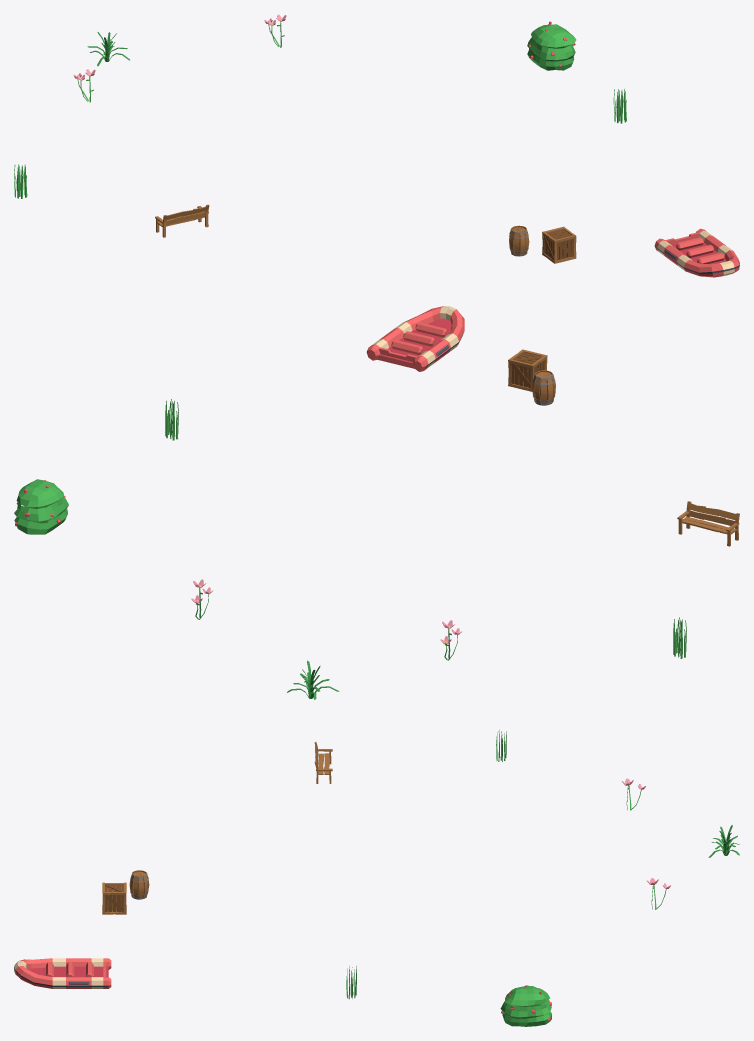
The model's file is level.glb.
3 views of the same model, one above another, from view 1: azimuth 30°, elevation 25°; view 2: azimuth 150°, elevation 25°; view 3: azimuth 270°, elevation 25° (orthographic). The views are drawn at different scales.
Parts seen in each view (by area): view 1: Lifeboat.001, BushBerries_1.001, Crate.001, Bench_1.001, Barrel.001; view 2: Lifeboat.001, BushBerries_1.001, Bench_1.001, Crate.001, Barrel.001; view 3: Lifeboat.001, BushBerries_1.001, Crate.001, Barrel.001.
Boxes of the visible parts, bbox=[...] form: Lifeboat.001: bbox=[654, 228, 739, 277]; BushBerries_1.001: bbox=[527, 21, 576, 70]; Crate.001: bbox=[542, 226, 576, 263]; Bench_1.001: bbox=[155, 204, 209, 237]; Barrel.001: bbox=[509, 225, 529, 256]; Lifeboat.001: bbox=[366, 306, 464, 371]; BushBerries_1.001: bbox=[14, 479, 68, 534]; Bench_1.001: bbox=[677, 501, 739, 546]; Crate.001: bbox=[508, 349, 547, 391]; Barrel.001: bbox=[532, 370, 555, 405]; Lifeboat.001: bbox=[14, 958, 111, 988]; BushBerries_1.001: bbox=[500, 985, 551, 1026]; Crate.001: bbox=[102, 882, 126, 914]; Barrel.001: bbox=[129, 870, 149, 899].
Bounding box in the file's own units: 25.06 × 2.27 × 29.08.
